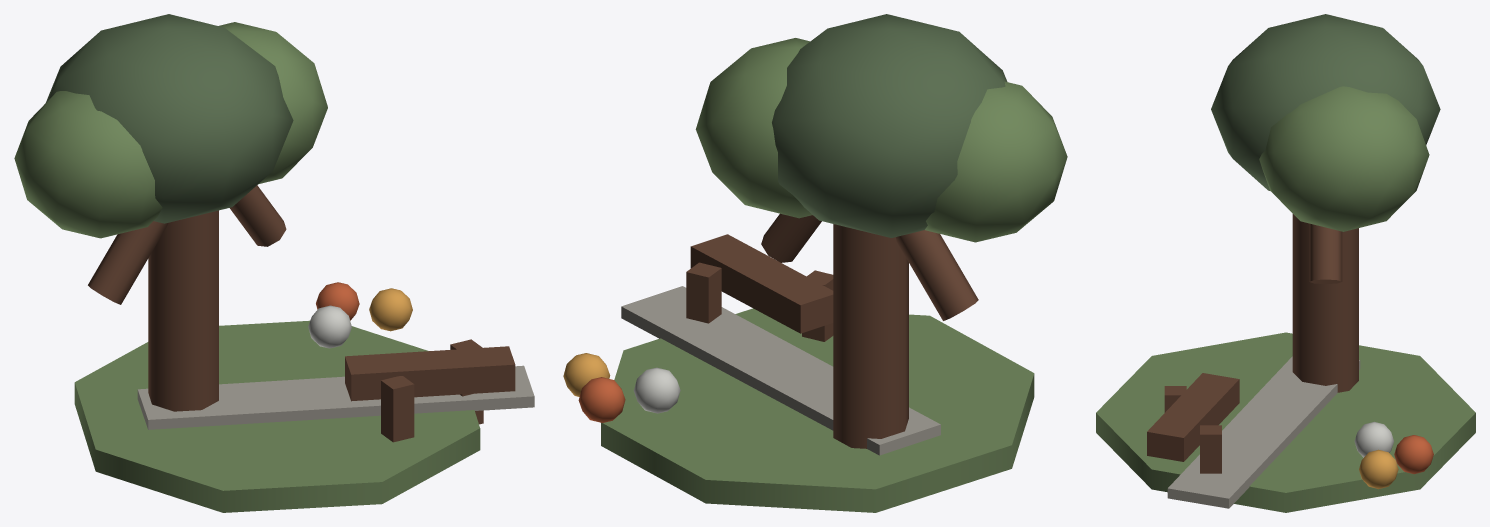
The model's file is old-oak.glb.
3 views of the same model, side by side, from view 1: azimuth 30°, elevation 25°; view 2: azimuth 150°, elevation 25°; view 3: azimuth 270°, elevation 25° (orthographic). The views are drawn at different scales.
Visible parts, largest first — view 1: ParkShell; view 2: ParkShell; view 3: ParkShell.
Boxes of the visible parts, x1,y1,x2,y2 form: ParkShell: (14, 14, 534, 512); ParkShell: (563, 14, 1067, 512); ParkShell: (1096, 14, 1475, 512).
Size of the model in its own units: 2.14 by 1.83 by 1.72.
